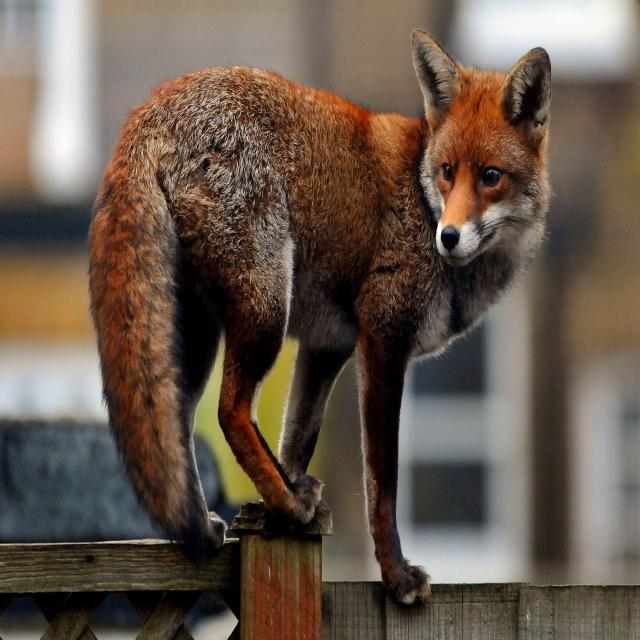fox: (89, 30, 551, 604)
